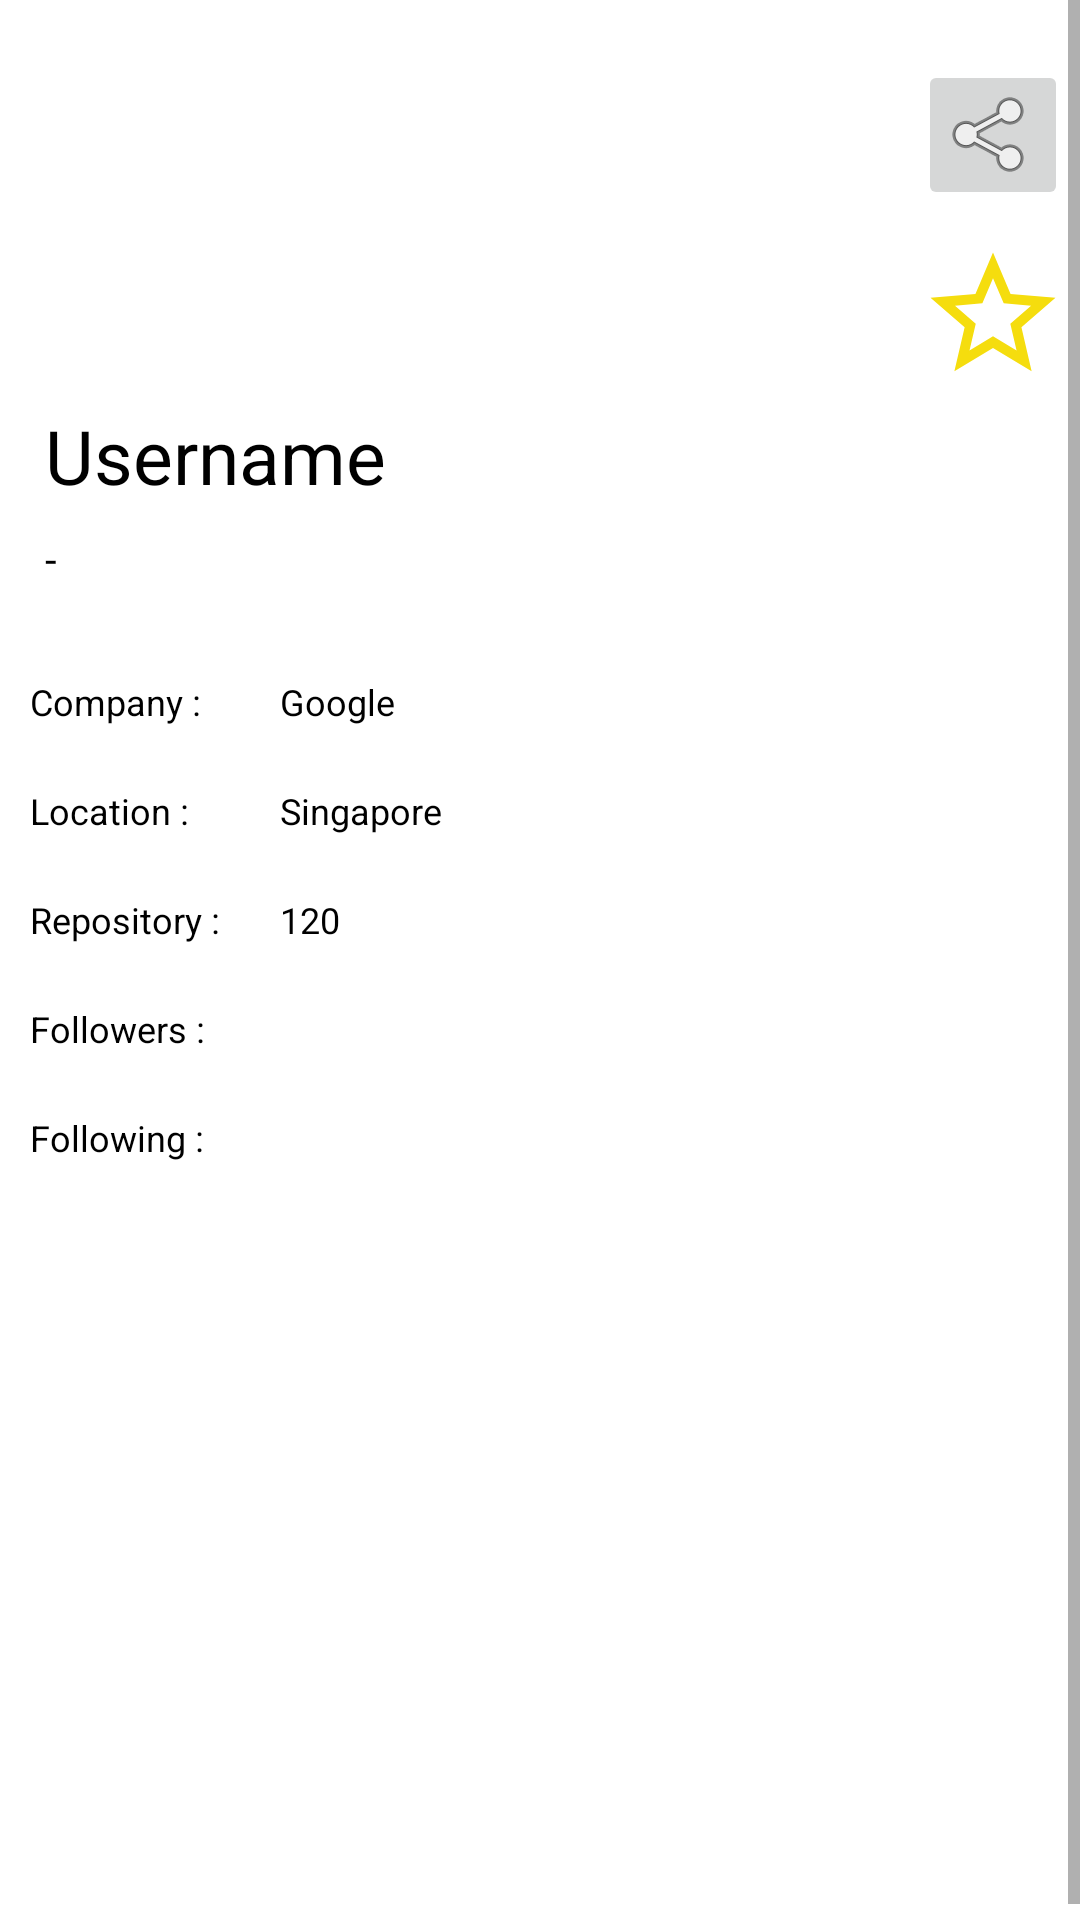

Screen size 1080*1920. Icon name, then its center in pixels as (x=x, y=y):
add user to favorite list: (x=993, y=312)
share button: (x=993, y=135)
